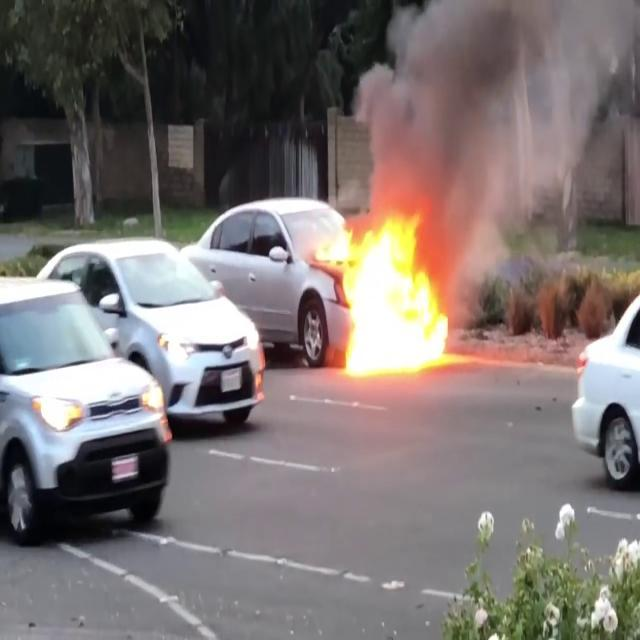Fire: (334, 202, 456, 380)
Smoke: (359, 0, 639, 236)
